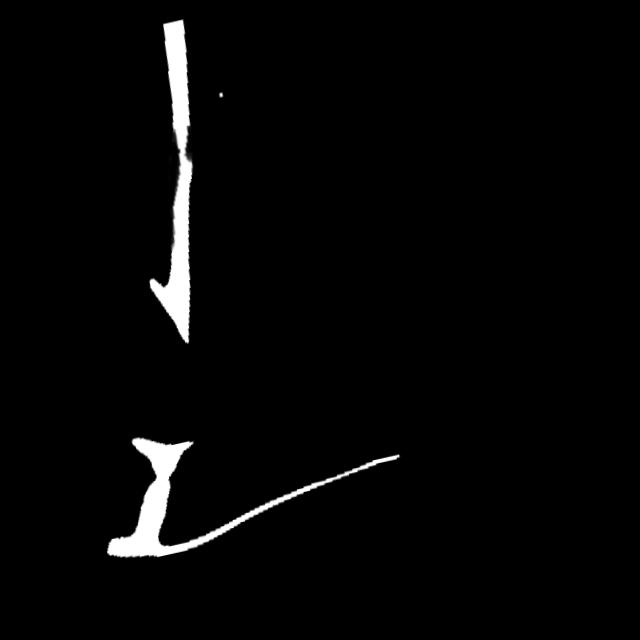sl: (166, 119, 203, 175)
